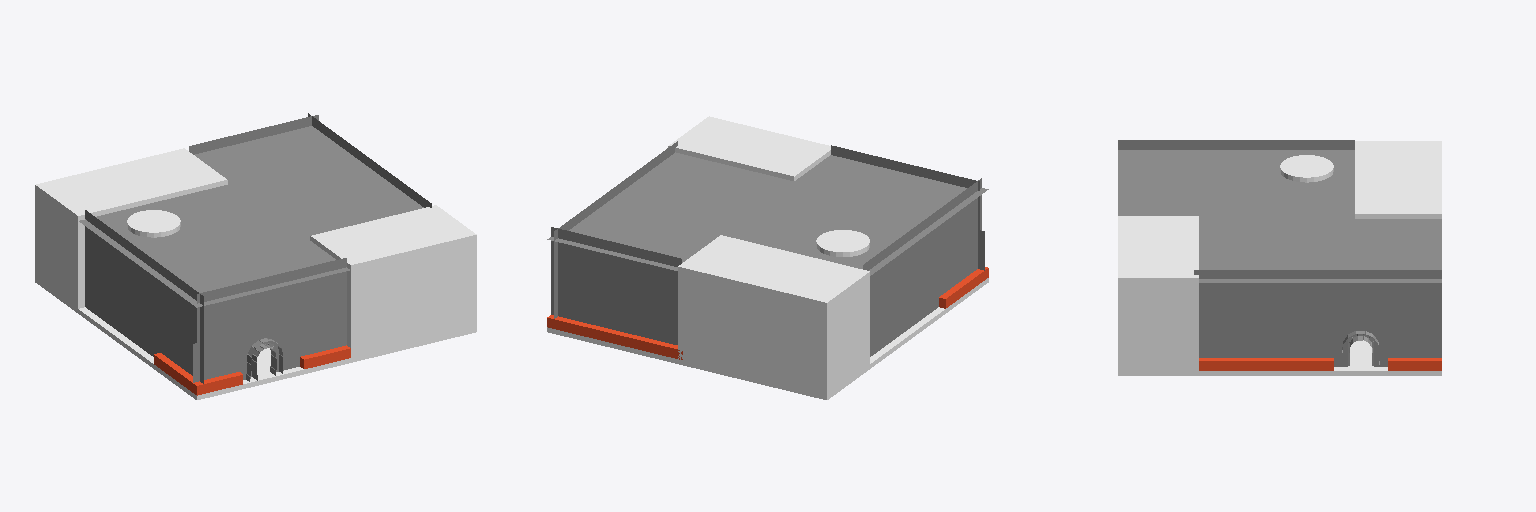
The model's file is bigCorner.obj.
3 views of the same model, side by side, from view 1: azimuth 30°, elevation 25°; view 2: azimuth 150°, elevation 25°; view 3: azimuth 270°, elevation 25° (orthographic).
Parts seen in each view (by area): view 1: struct_ceiling_14, block_default_1, block_default_2, struct_wall_main_half_10, struct_wall_main_half_13, block_default_0, struct_wall_main_half_8, struct_door_5, struct_wall_main_half_9, open_block_19, cylinder_full_3, struct_wall_main_half_11 (+2 smaller); view 2: struct_ceiling_14, block_default_2, struct_wall_main_half_11, struct_wall_main_half_10, block_default_1, block_default_0, open_block_15, struct_wall_main_half_13, struct_wall_main_half_12, cylinder_full_3, open_block_19; view 3: struct_ceiling_14, block_default_1, struct_wall_main_half_12, block_default_2, struct_wall_main_half_7, block_default_0, struct_wall_main_half_10, struct_wall_main_half_6, struct_door_4, open_block_16, cylinder_full_3, open_block_15.
Boxes of the visible parts, <box> form: struct_ceiling_14: <box>79,126,423,307</box>; block_default_1: <box>310,205,476,357</box>; block_default_2: <box>35,148,227,308</box>; struct_wall_main_half_10: <box>85,210,203,383</box>; struct_wall_main_half_13: <box>197,258,346,342</box>; block_default_0: <box>35,278,476,399</box>; struct_wall_main_half_8: <box>286,306,346,369</box>; struct_door_5: <box>239,321,285,381</box>; struct_wall_main_half_9: <box>193,333,238,382</box>; open_block_19: <box>154,353,242,395</box>; cylinder_full_3: <box>127,210,180,237</box>; struct_wall_main_half_11: <box>189,115,318,154</box>; struct_ceiling_14: <box>547,152,988,275</box>; block_default_2: <box>678,235,869,395</box>; struct_wall_main_half_11: <box>551,227,681,344</box>; struct_wall_main_half_10: <box>863,178,981,356</box>; block_default_1: <box>668,116,830,180</box>; block_default_0: <box>547,278,988,399</box>; open_block_15: <box>547,315,682,359</box>; struct_wall_main_half_13: <box>831,145,979,229</box>; struct_wall_main_half_12: <box>554,141,677,279</box>; cylinder_full_3: <box>816,230,869,256</box>; open_block_19: <box>939,267,988,308</box>; struct_ceiling_14: <box>1118,150,1441,282</box>; block_default_1: <box>1118,216,1198,370</box>; struct_wall_main_half_12: <box>1194,270,1441,317</box>; block_default_2: <box>1355,141,1441,218</box>; struct_wall_main_half_7: <box>1199,318,1333,357</box>; block_default_0: <box>1118,340,1441,375</box>; struct_wall_main_half_10: <box>1118,140,1354,149</box>; struct_wall_main_half_6: <box>1388,318,1441,357</box>; struct_door_4: <box>1334,318,1387,366</box>; open_block_16: <box>1199,358,1333,370</box>; cylinder_full_3: <box>1280,155,1333,182</box>; open_block_15: <box>1388,358,1441,370</box>.
Size of the model in its own units: 6 by 2.1 by 6.